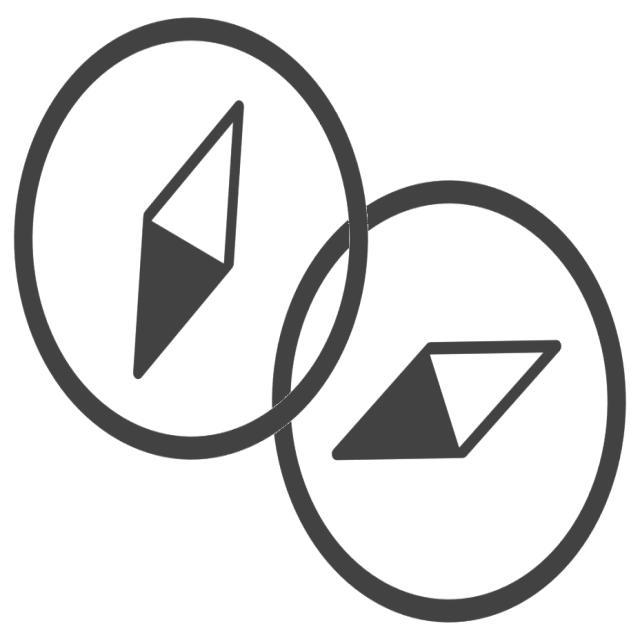compass: (6, 5, 378, 475), (264, 174, 630, 633)
